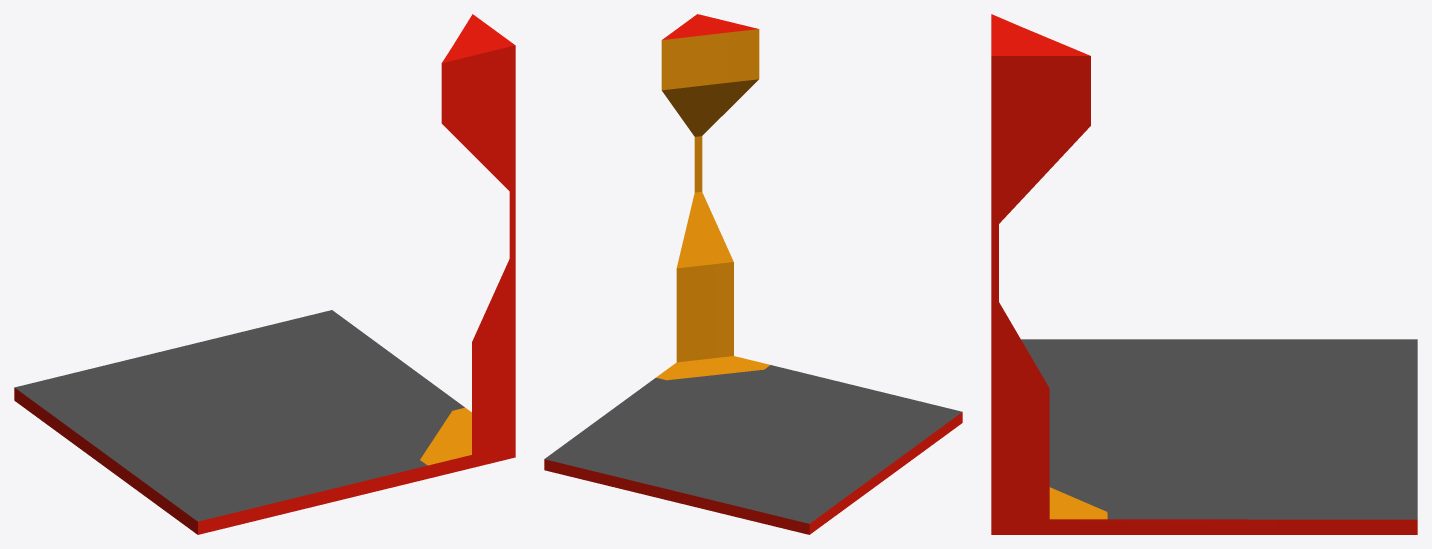
The picture shows the model from 3 angles, left to right: view 1: azimuth 30°, elevation 25°; view 2: azimuth 150°, elevation 25°; view 3: azimuth 270°, elevation 25°; orthographic projection. The views are drawn at different scales.
Visible parts, largest first — view 1: S18; view 2: S18; view 3: S18.
Part boxes in pixels (x1,y1,x2,y2): S18: [14, 14, 515, 534]; S18: [544, 14, 962, 534]; S18: [991, 14, 1417, 534].
Bounding box in the file's own units: 200 × 248 × 200.
